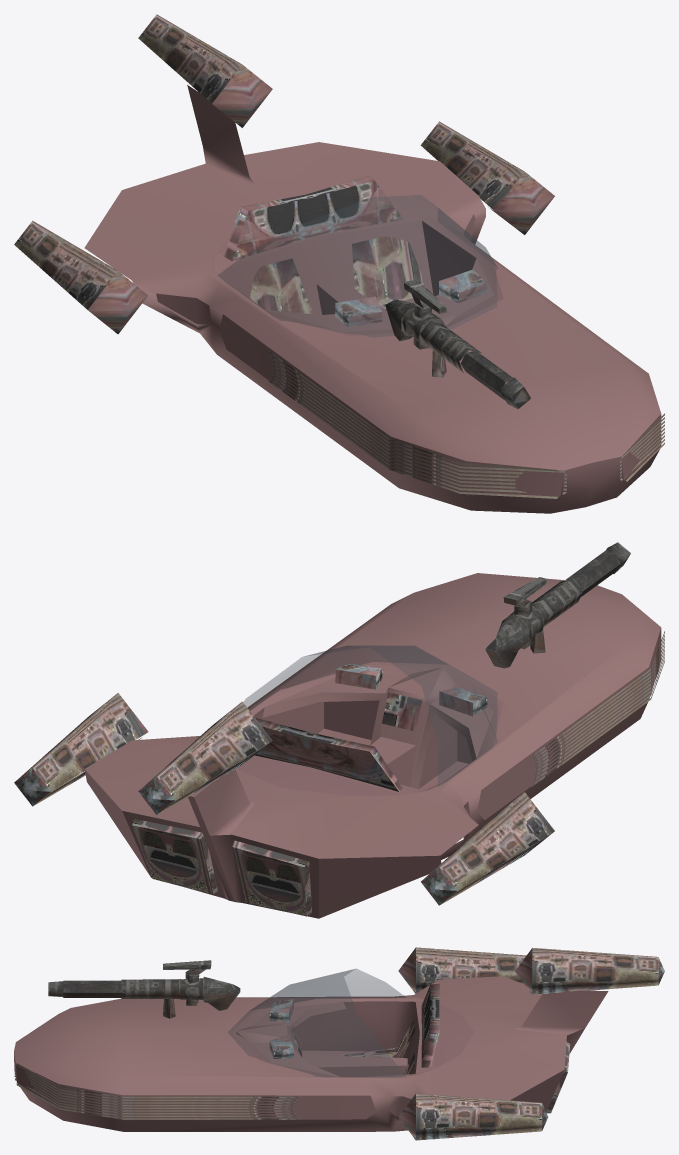
File: landspeeder.far.glb
3 views of the same model, one above another, from view 1: azimuth 30°, elevation 25°; view 2: azimuth 150°, elevation 25°; view 3: azimuth 270°, elevation 25° (orthographic). The views are drawn at different scales.
Bounding box in the file's own units: 2.96 × 1.18 × 4.85.
Materials: 3 (2 with a texture image).
